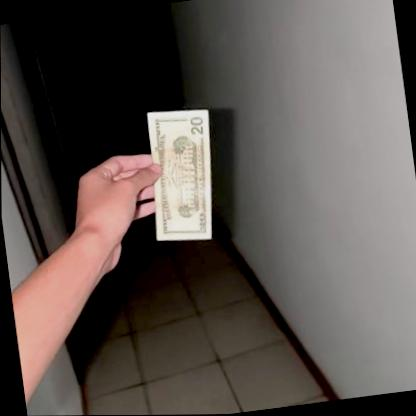twenty-back: (139, 103, 226, 248)
